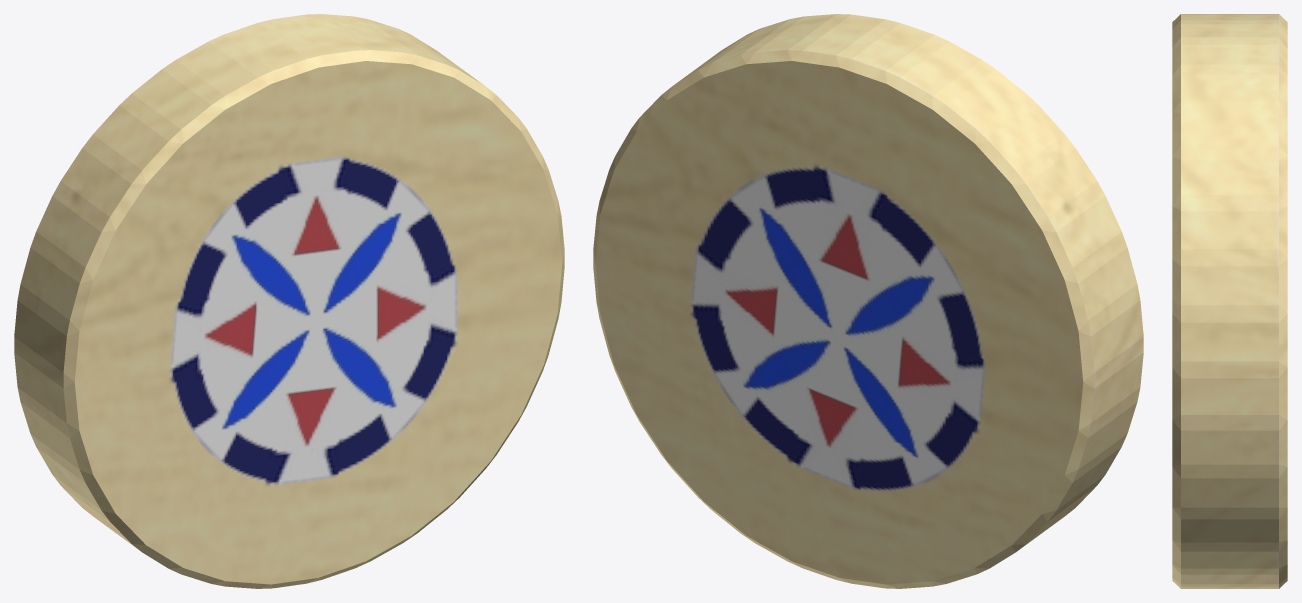
The model's file is dameBlanche.obj.
3 renders of one model, left to right at view 1: azimuth 30°, elevation 25°; view 2: azimuth 150°, elevation 25°; view 3: azimuth 270°, elevation 25°, orthographic.
Visible parts, largest first — view 1: Cylinder; view 2: Cylinder; view 3: Cylinder.
Part boxes in pixels (x1,y1,x2,y2): Cylinder: (14,14,564,588); Cylinder: (593,14,1143,588); Cylinder: (1172,14,1287,588).
Bounding box in the file's own units: 0.9871 × 0.9871 × 0.198.
